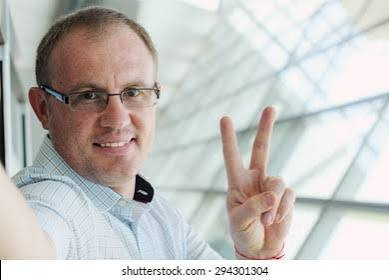peace_sign: (216, 98, 301, 250)
